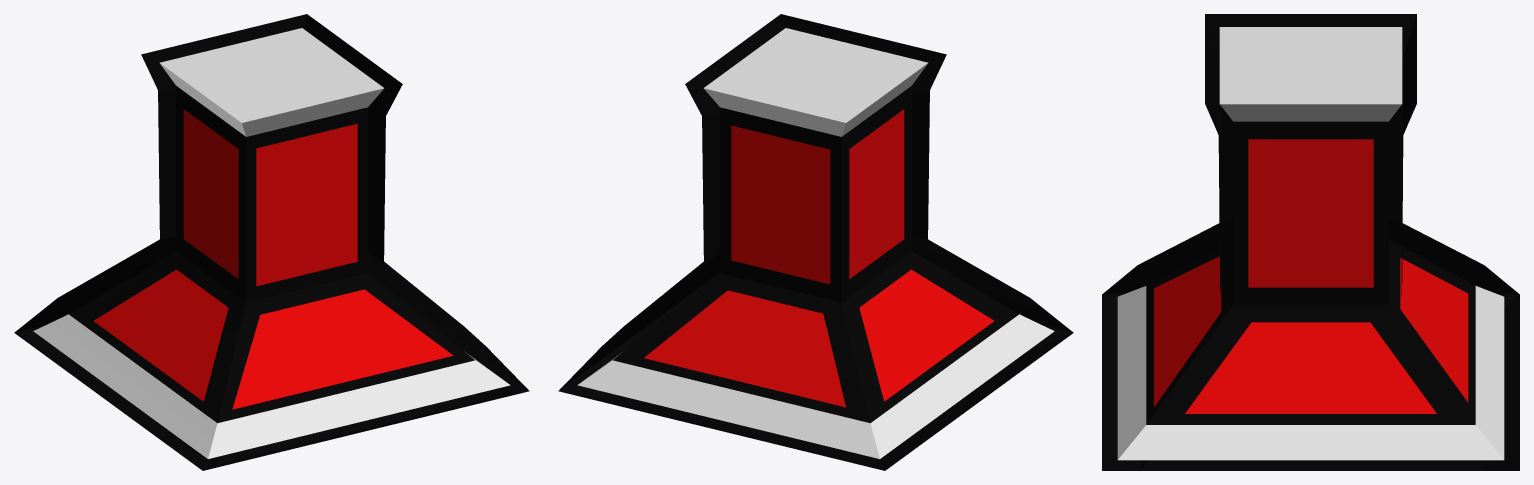
The model's file is ExhaustVent.fbx.
3 views of the same model, side by side, from view 1: azimuth 30°, elevation 25°; view 2: azimuth 150°, elevation 25°; view 3: azimuth 270°, elevation 25° (orthographic). The views are drawn at different scales.
Visible parts, largest first — view 1: Base (×2); view 2: Base (×2); view 3: Base (×2).
Part boxes in pixels (x1=…): Base (×2): x1=14, y1=14, x2=529, y2=470; Base (×2): x1=558, y1=14, x2=1073, y2=470; Base (×2): x1=1102, y1=14, x2=1519, y2=470.
Bounding box in the file's own units: 303 × 272 × 303.
